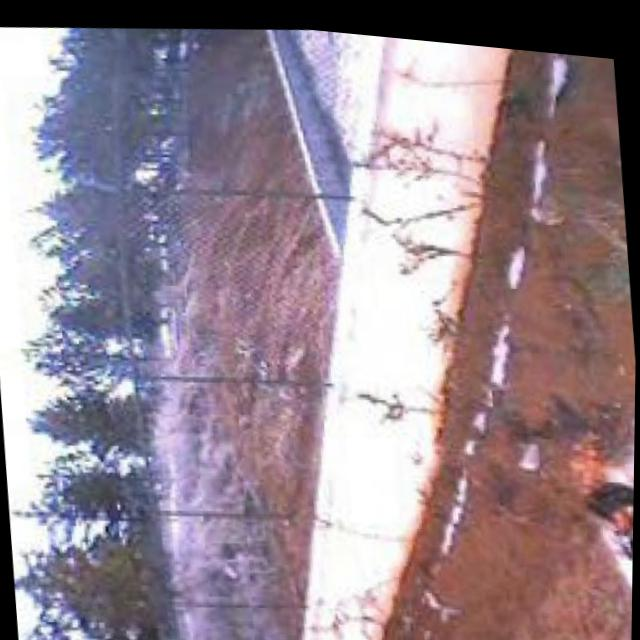Fire: (559, 405, 636, 563)
